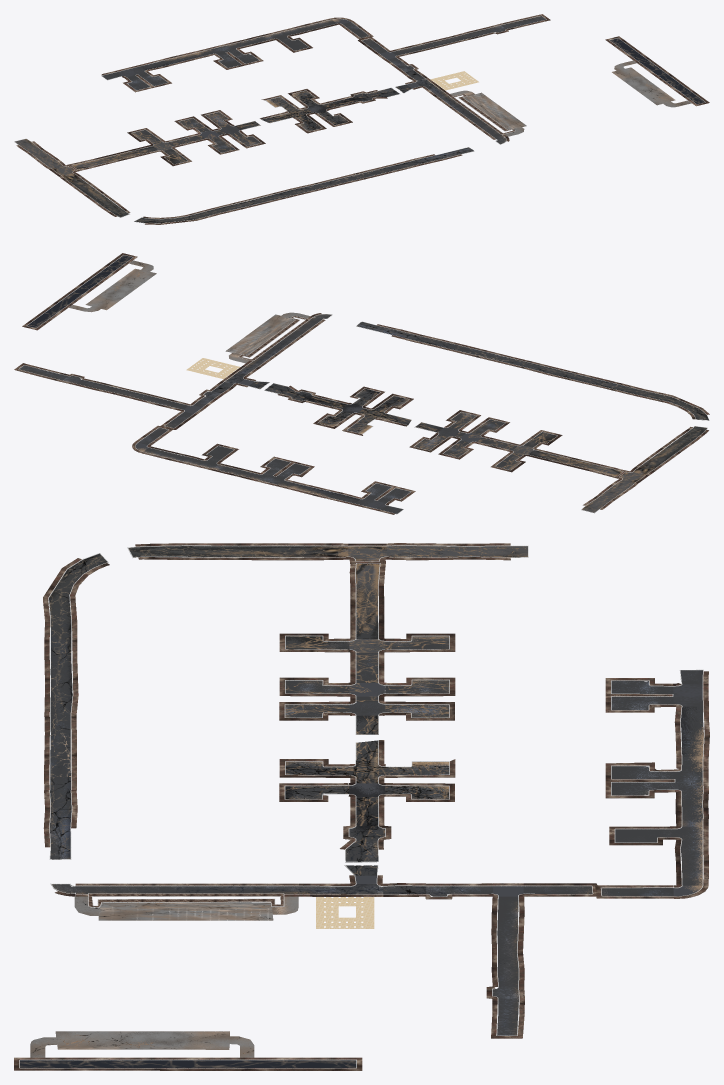
Rendered from New Roads_August_Fixed.fbx.
3 renders of one model, top to bottom at view 1: azimuth 30°, elevation 25°; view 2: azimuth 150°, elevation 25°; view 3: azimuth 270°, elevation 25°, orthographic. The views are drawn at different scales.
Visible parts, largest first — view 1: polySurface450_GAME_READY.001__RETEXTURE_MERGED, Sidewalk_RoadNetwork, Curb_Blocks_RoadNetwork, polySurface450_GAME_READY.001__PArking_texture, polySurface450_GAME_READY.001__FLOOR_TEXTURE, Sidewalk; view 2: polySurface450_GAME_READY.001__RETEXTURE_MERGED, Sidewalk_RoadNetwork, Curb_Blocks_RoadNetwork, polySurface450_GAME_READY.001__PArking_texture, polySurface450_GAME_READY.001__FLOOR_TEXTURE, Sidewalk; view 3: polySurface450_GAME_READY.001__RETEXTURE_MERGED, Sidewalk_RoadNetwork, Curb_Blocks_RoadNetwork, polySurface450_GAME_READY.001__PArking_texture, polySurface450_GAME_READY.001__FLOOR_TEXTURE, Sidewalk, Curb_Blocks.
Part boxes in pixels (x1=…): polySurface450_GAME_READY.001__RETEXTURE_MERGED: x1=15, y1=16, x2=704, y2=223; Sidewalk_RoadNetwork: x1=16, y1=14, x2=709, y2=224; Curb_Blocks_RoadNetwork: x1=14, y1=15, x2=705, y2=223; polySurface450_GAME_READY.001__PArking_texture: x1=450, y1=60, x2=691, y2=136; polySurface450_GAME_READY.001__FLOOR_TEXTURE: x1=429, y1=71, x2=478, y2=90; Sidewalk: x1=451, y1=94, x2=514, y2=134; polySurface450_GAME_READY.001__RETEXTURE_MERGED: x1=19, y1=255, x2=708, y2=513; Sidewalk_RoadNetwork: x1=14, y1=253, x2=709, y2=514; Curb_Blocks_RoadNetwork: x1=18, y1=255, x2=709, y2=514; polySurface450_GAME_READY.001__PArking_texture: x1=69, y1=260, x2=309, y2=363; polySurface450_GAME_READY.001__FLOOR_TEXTURE: x1=186, y1=358, x2=240, y2=379; Sidewalk: x1=239, y1=316, x2=309, y2=360; polySurface450_GAME_READY.001__RETEXTURE_MERGED: x1=20, y1=546, x2=703, y2=1067; Sidewalk_RoadNetwork: x1=14, y1=543, x2=709, y2=1070; Curb_Blocks_RoadNetwork: x1=19, y1=545, x2=704, y2=1068; polySurface450_GAME_READY.001__PArking_texture: x1=30, y1=895, x2=298, y2=1057; polySurface450_GAME_READY.001__FLOOR_TEXTURE: x1=316, y1=897, x2=374, y2=928; Sidewalk: x1=88, y1=893, x2=283, y2=907; Curb_Blocks: x1=88, y1=893, x2=284, y2=907.
Bounding box in the file's own units: 46905 × 38.52 × 26148.
